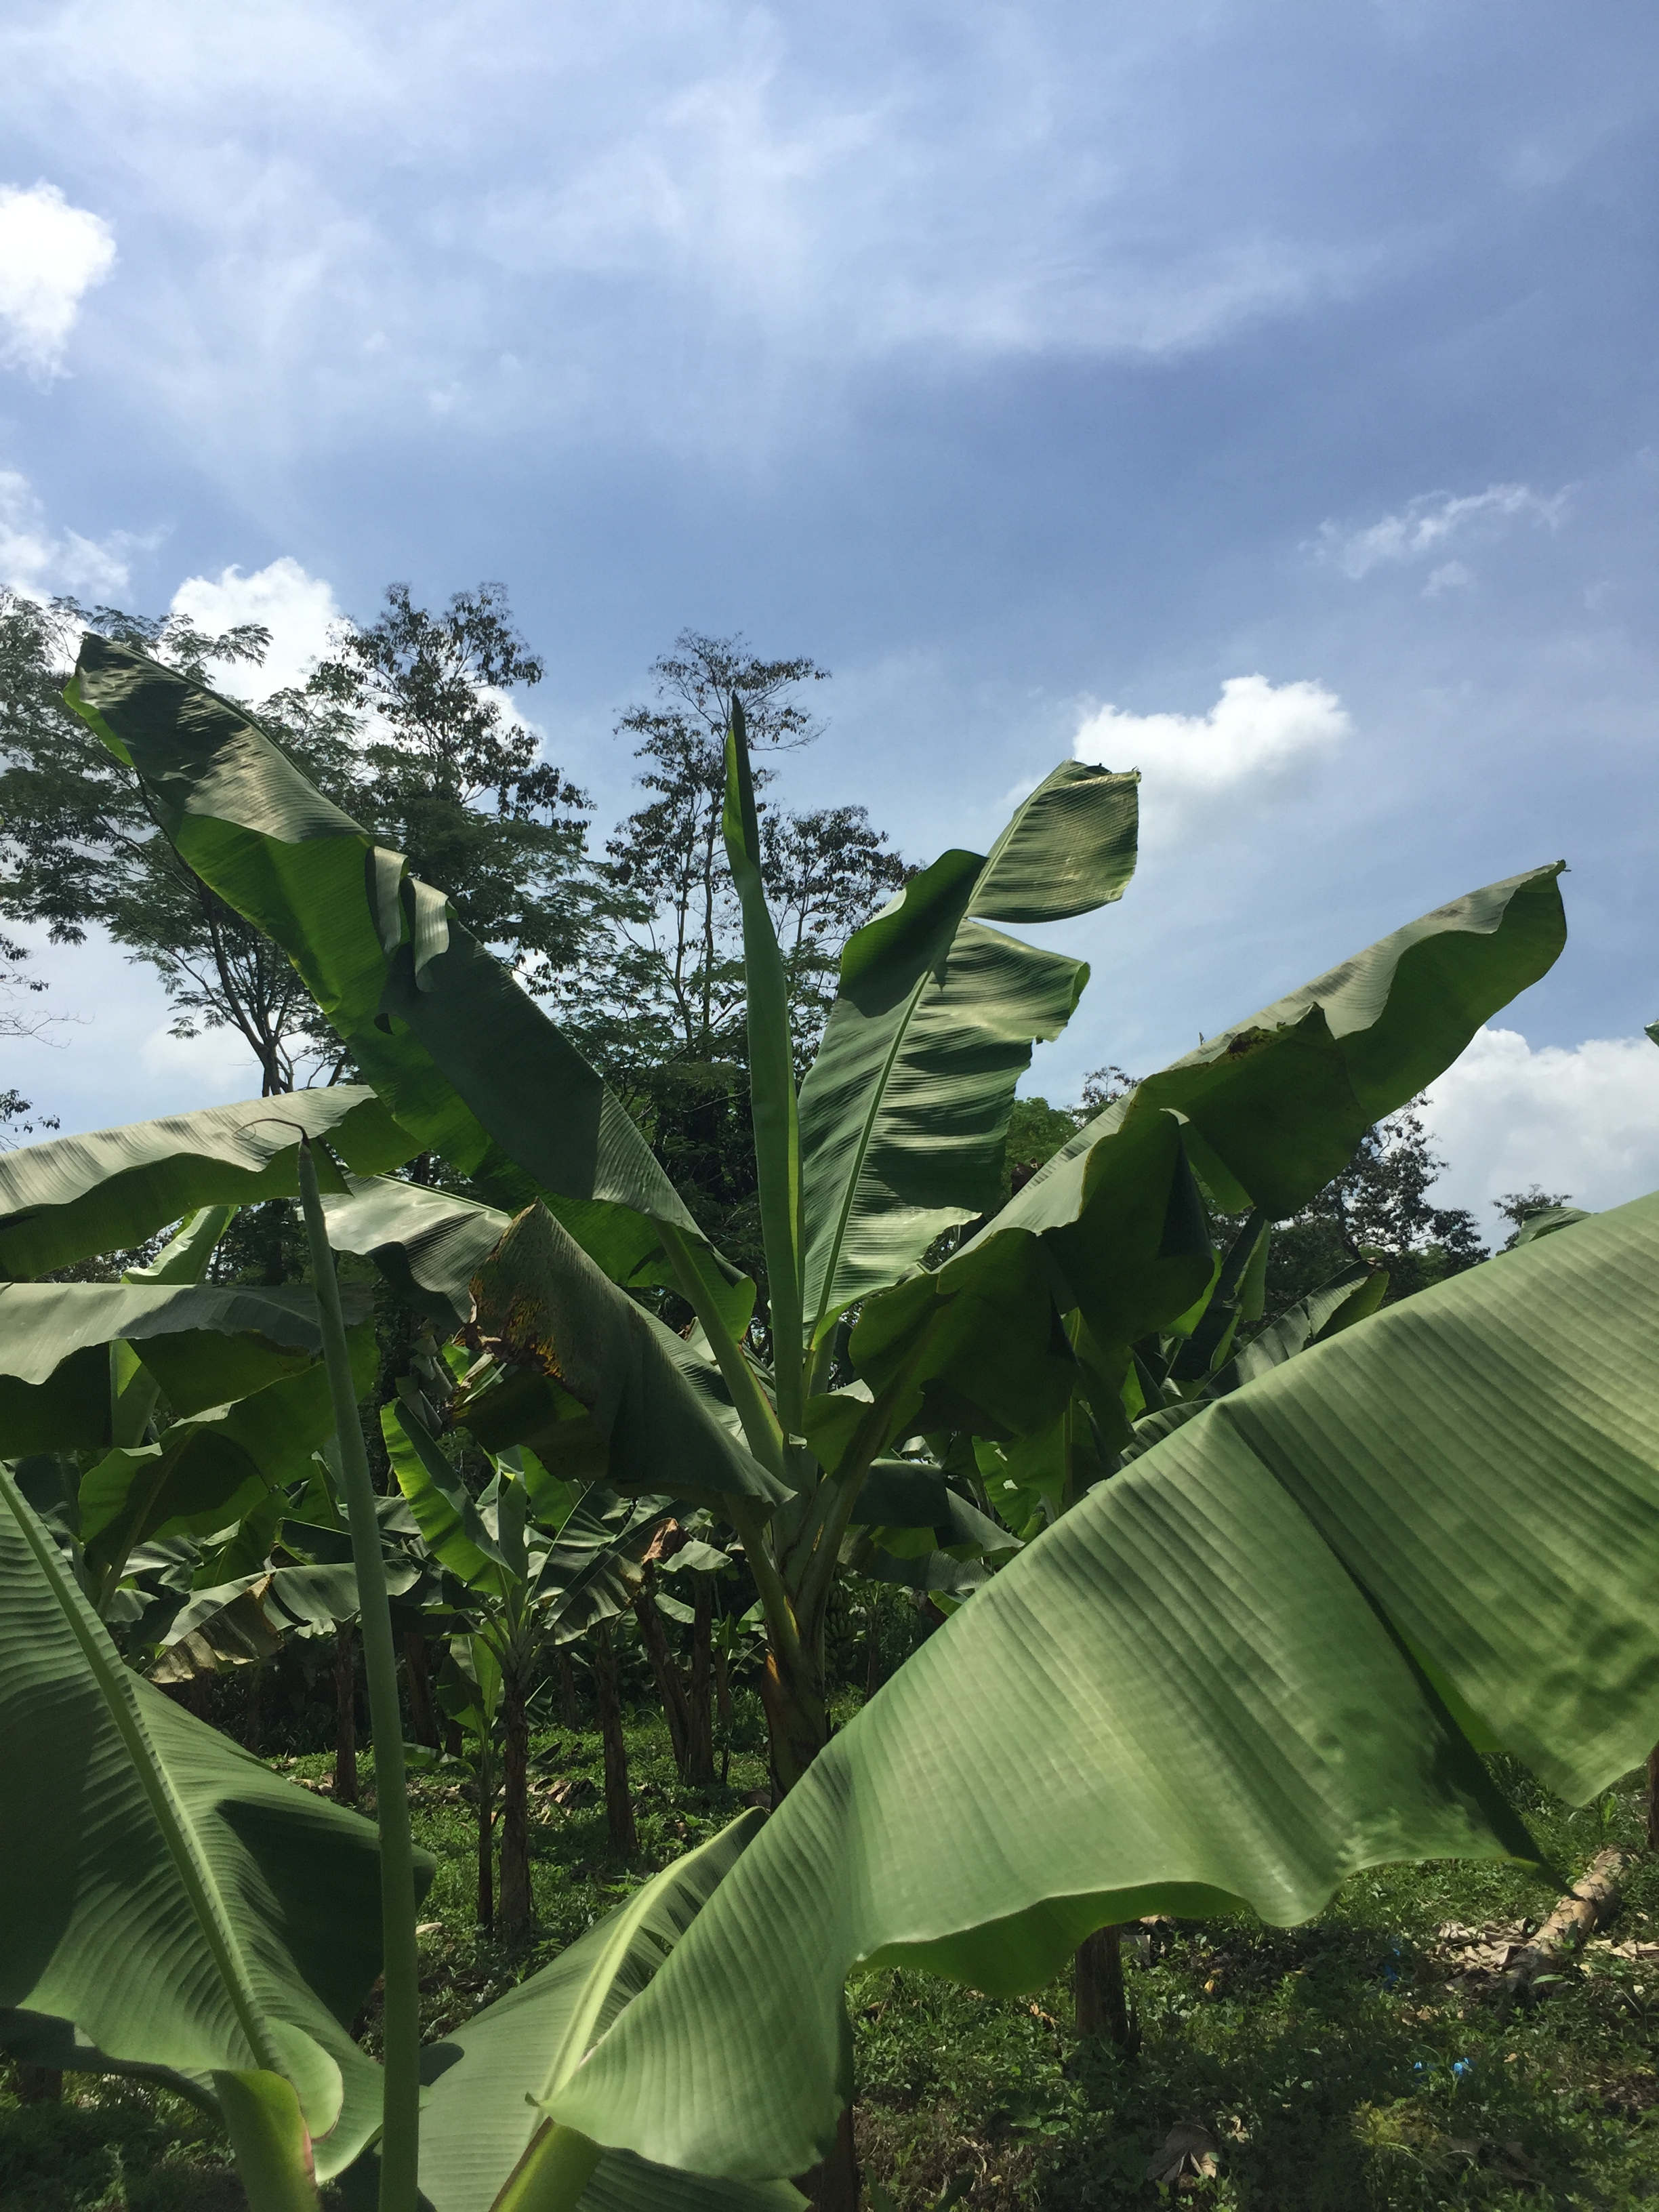candleleafs: (239, 1120, 422, 2212), (721, 691, 805, 1428)
